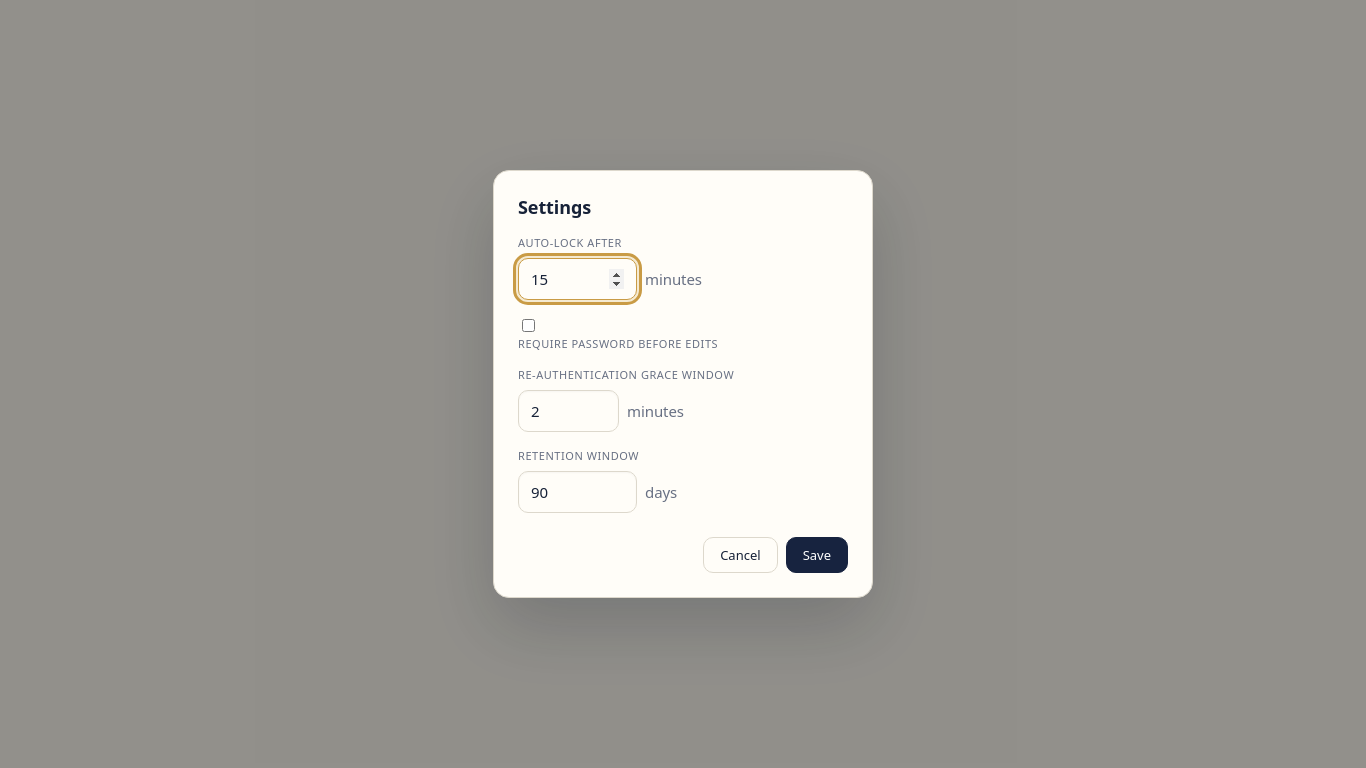
Test: SettingsDialog.svelte — IPC error path › rejected IPC with a non-AppError shape coerces to internal error
Replace the text in the number field labelled "Auto-lock after minutes" with "5" at (578, 279), box x1=518 y1=258 x2=637 y2=300
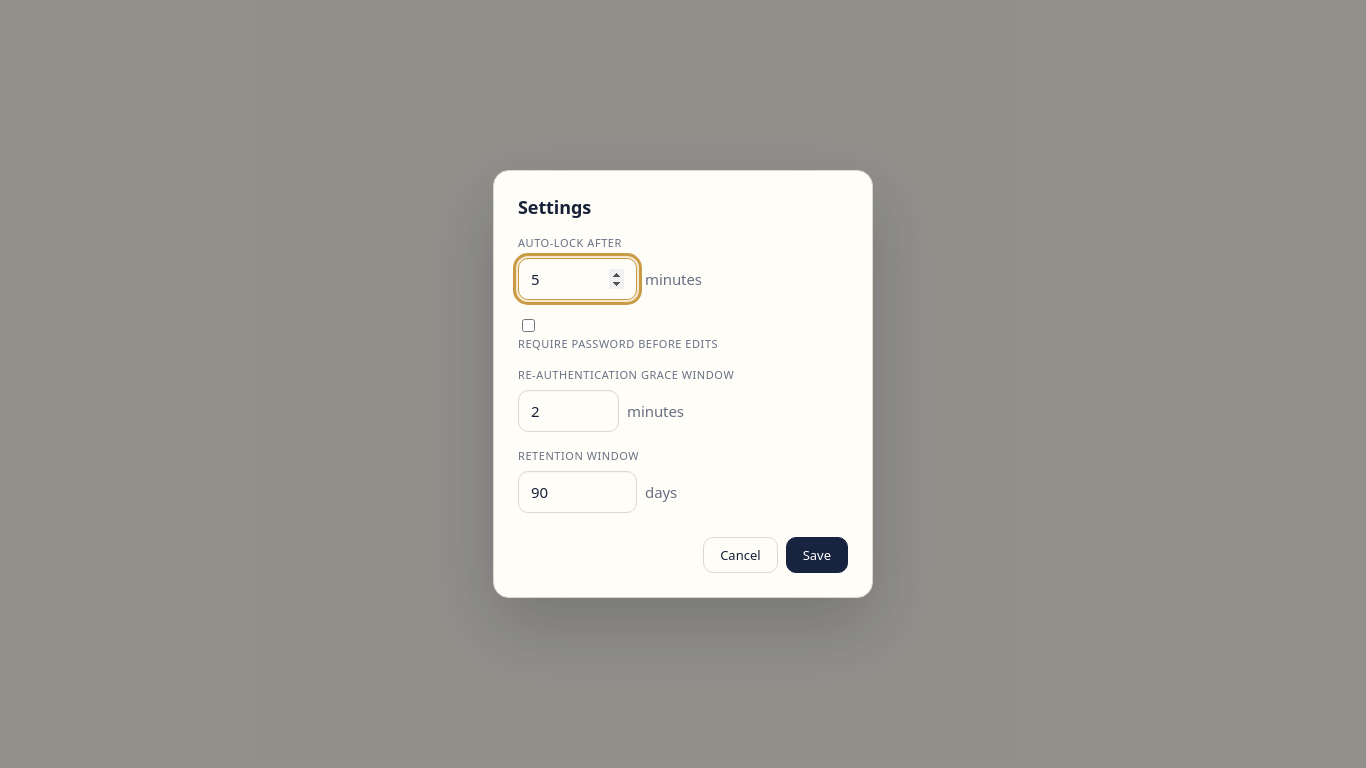
Click the button "Save".
click(817, 555)  # box x1=786 y1=537 x2=848 y2=573
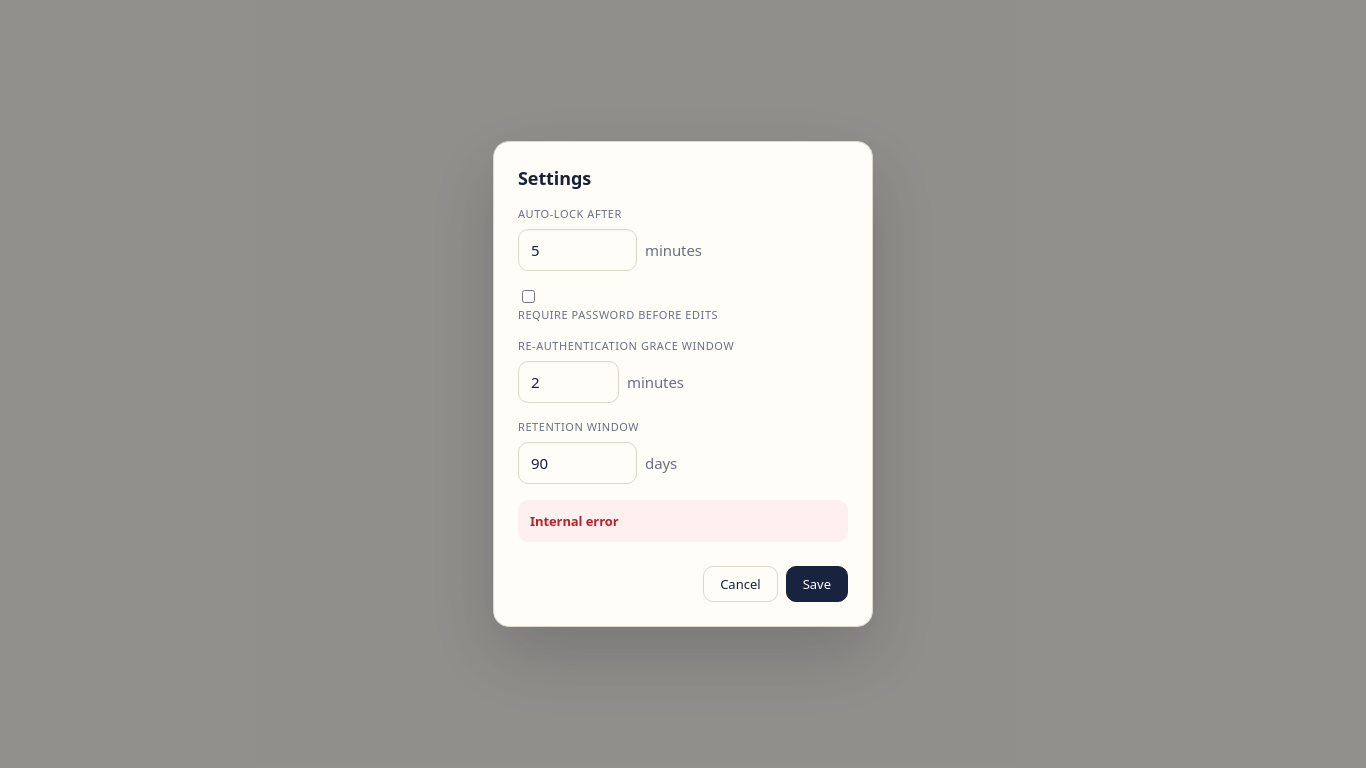
Check: the text "Internal error" is shown, box x1=530 y1=512 x2=618 y2=530
